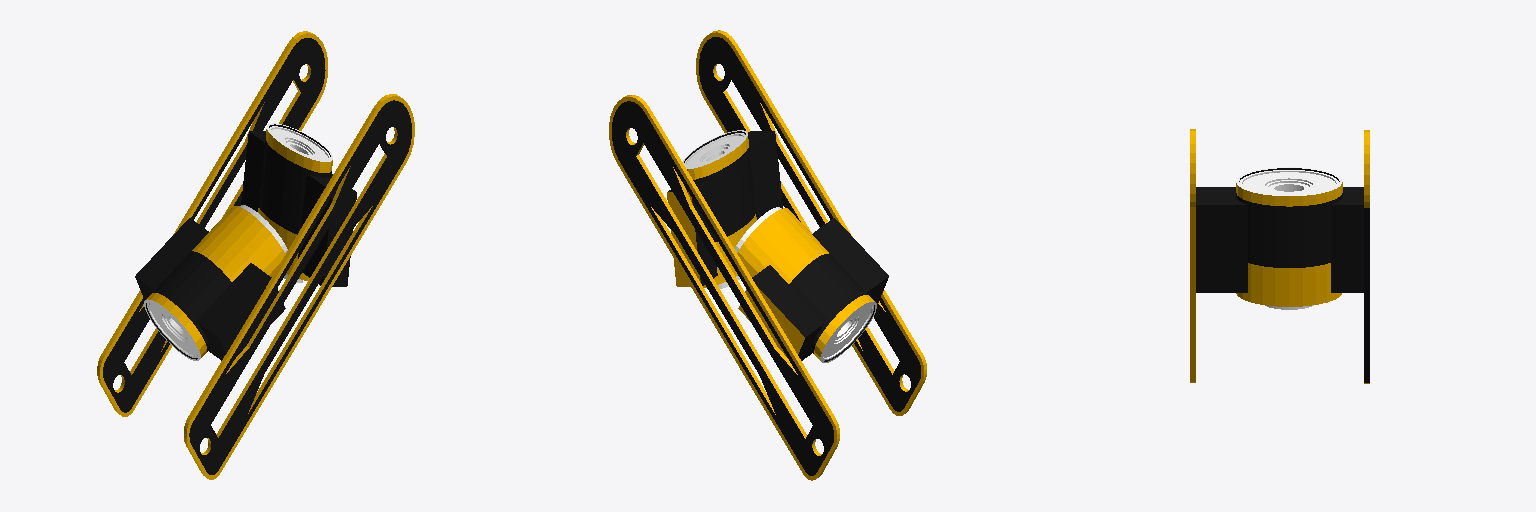
Rendered from dev1_3.obj.
The picture shows the model from 3 angles: view 1: azimuth 30°, elevation 25°; view 2: azimuth 150°, elevation 25°; view 3: azimuth 270°, elevation 25°; orthographic projection.
Visible parts, largest first — view 1: Bovenarm_001; view 2: Bovenarm_001; view 3: Bovenarm_001.
Part boxes in pixels (bbox=[...]): Bovenarm_001: bbox=[97, 31, 414, 479]; Bovenarm_001: bbox=[609, 30, 926, 480]; Bovenarm_001: bbox=[1190, 129, 1369, 383].
Bounding box in the file's own units: 30.79 × 43.8 × 20.93.